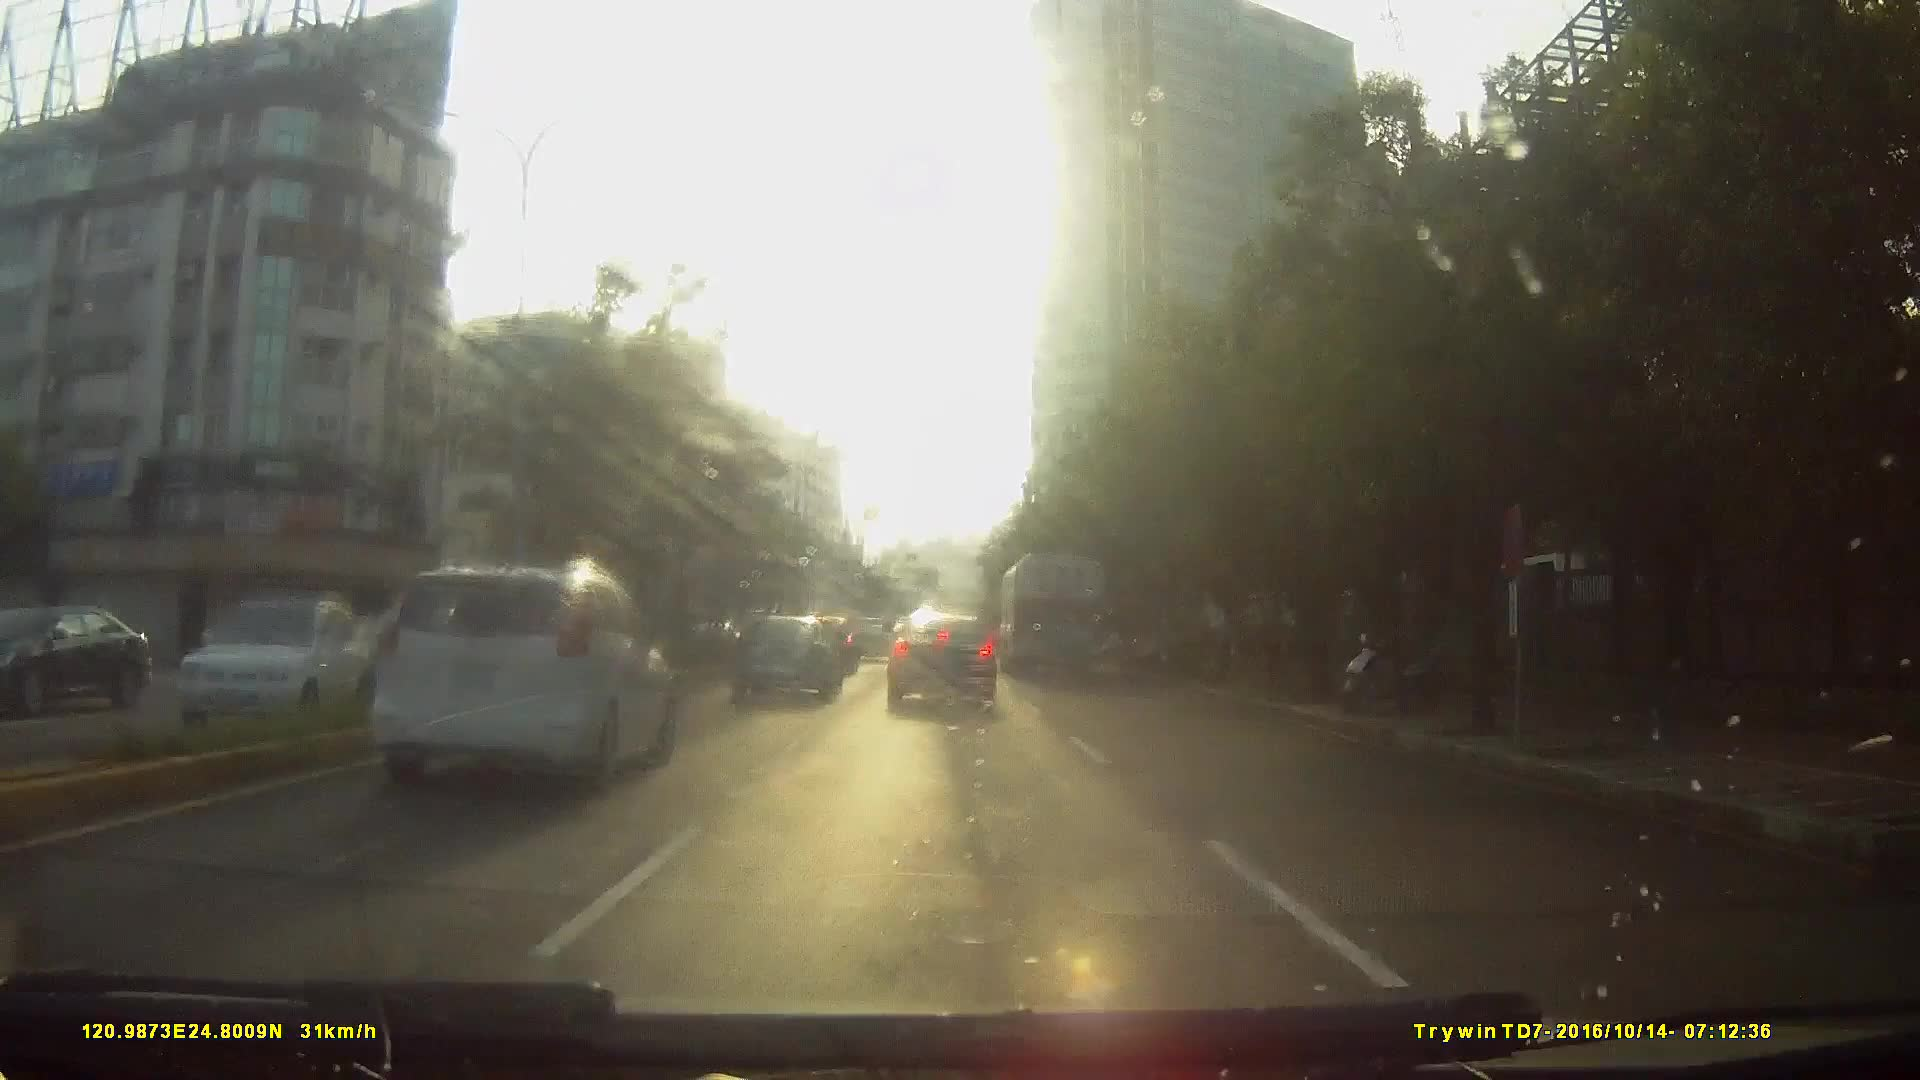vehicle: (251, 556, 684, 868), (363, 555, 674, 787), (162, 589, 389, 749), (1, 608, 182, 717), (998, 550, 1106, 680), (882, 608, 997, 712), (724, 611, 839, 699), (851, 613, 895, 662)
